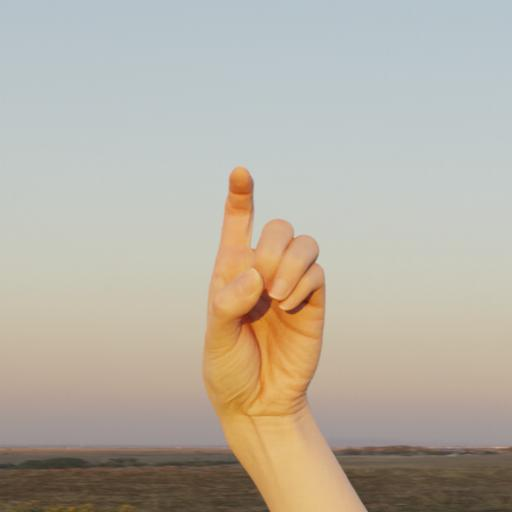X: (156, 104, 430, 512)
